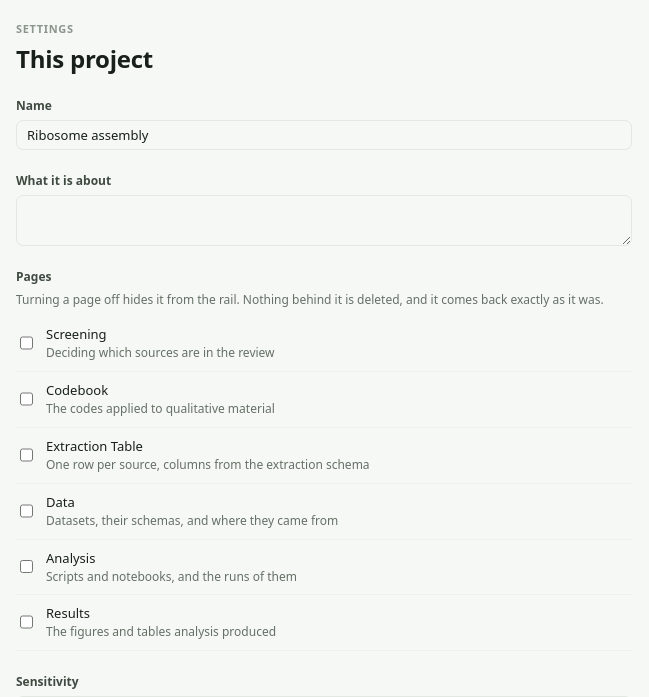
saving › tells the shell to reread the project
In the field labelled "Name": [324, 135] box [16,120,632,150], type "!"
(page scrolled)
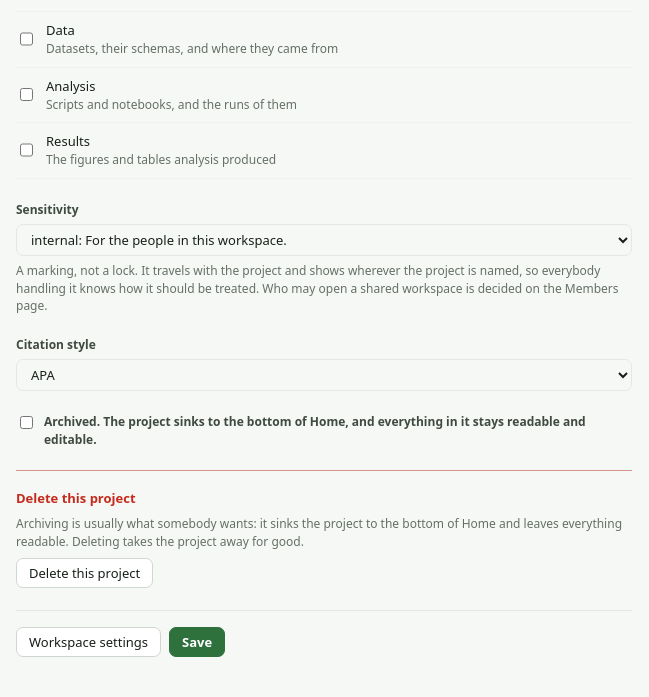
Click the button "Save": [197, 642] box [169,627,225,657]
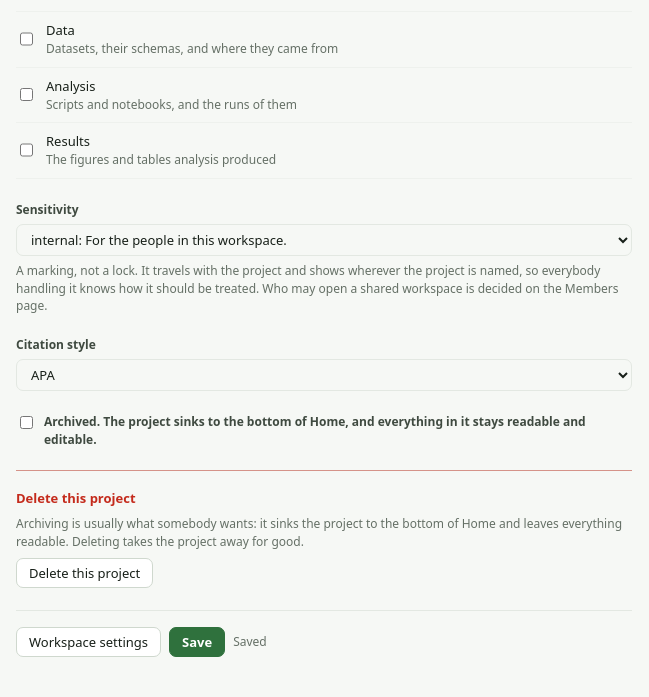
Check: the text "Saved" is shown, box [233,633,267,650]
